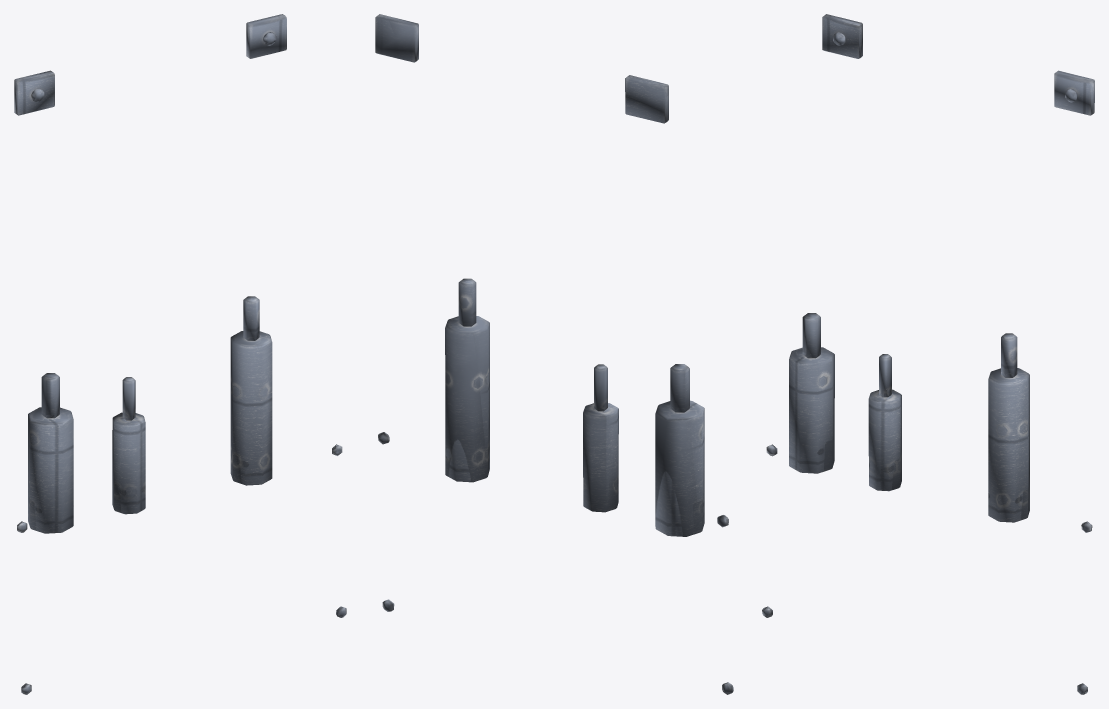
File: Tano_Delantal_Acero.fbx
3 views of the same model, side by side, from view 1: azimuth 30°, elevation 25°; view 2: azimuth 150°, elevation 25°; view 3: azimuth 330°, elevation 25° (orthographic). The views are drawn at different scales.
Visible parts, largest first — view 1: Tano_Delantal_Acero; view 2: Tano_Delantal_Acero; view 3: Tano_Delantal_Acero.
Part boxes in pixels (<box>): Tano_Delantal_Acero: <box>14,14,346,694</box>; Tano_Delantal_Acero: <box>375,14,733,694</box>; Tano_Delantal_Acero: <box>762,14,1094,694</box>.
Bounding box in the file's own units: 1.22 × 2.1 × 0.2477.
